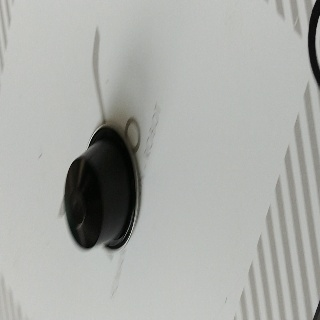capsule_10: (64, 122, 139, 254)
